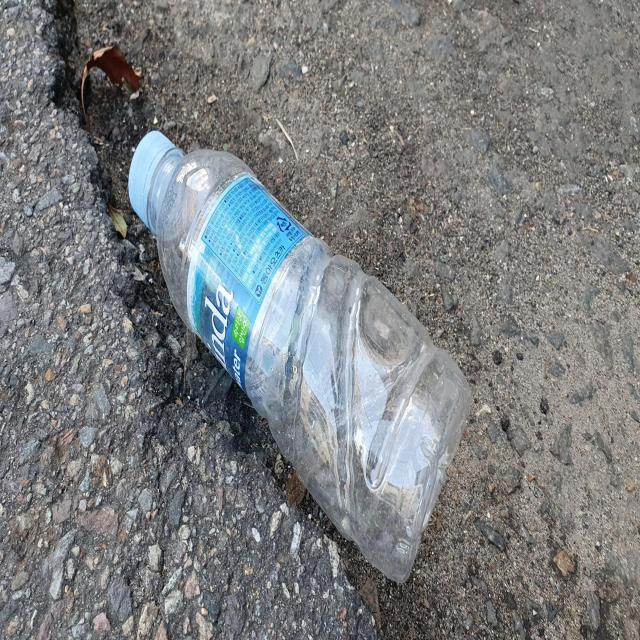plastic: (128, 130, 472, 583)
